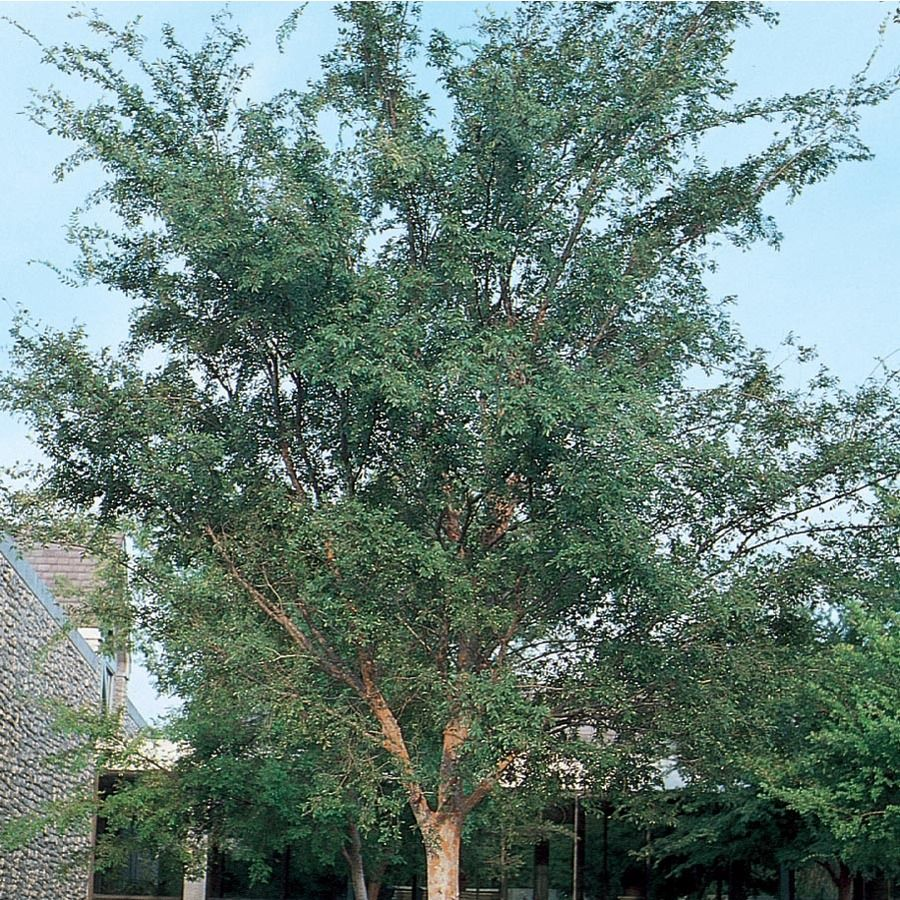tree: (1, 1, 900, 900)
